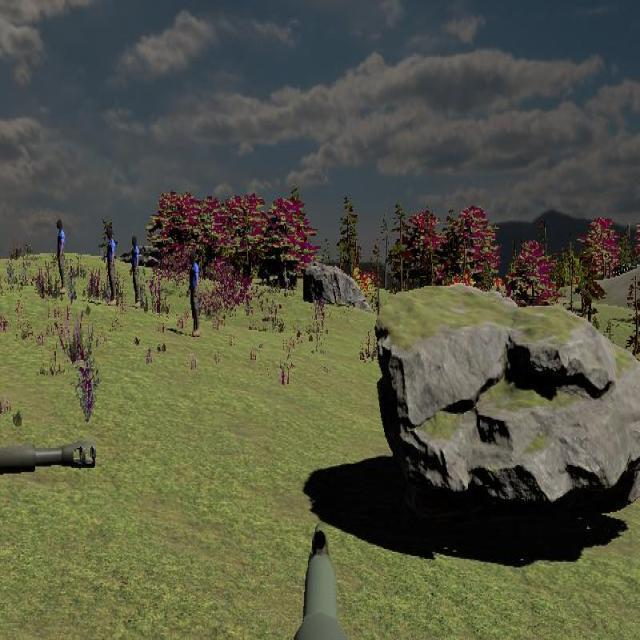Human: (188, 250, 201, 337), (104, 225, 117, 305), (128, 234, 141, 307), (55, 218, 65, 299)
